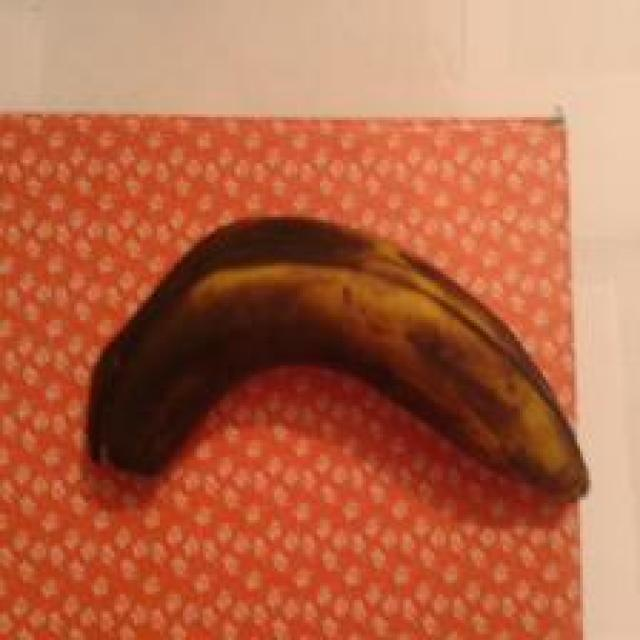Rotten_Banana: (79, 192, 562, 597)
